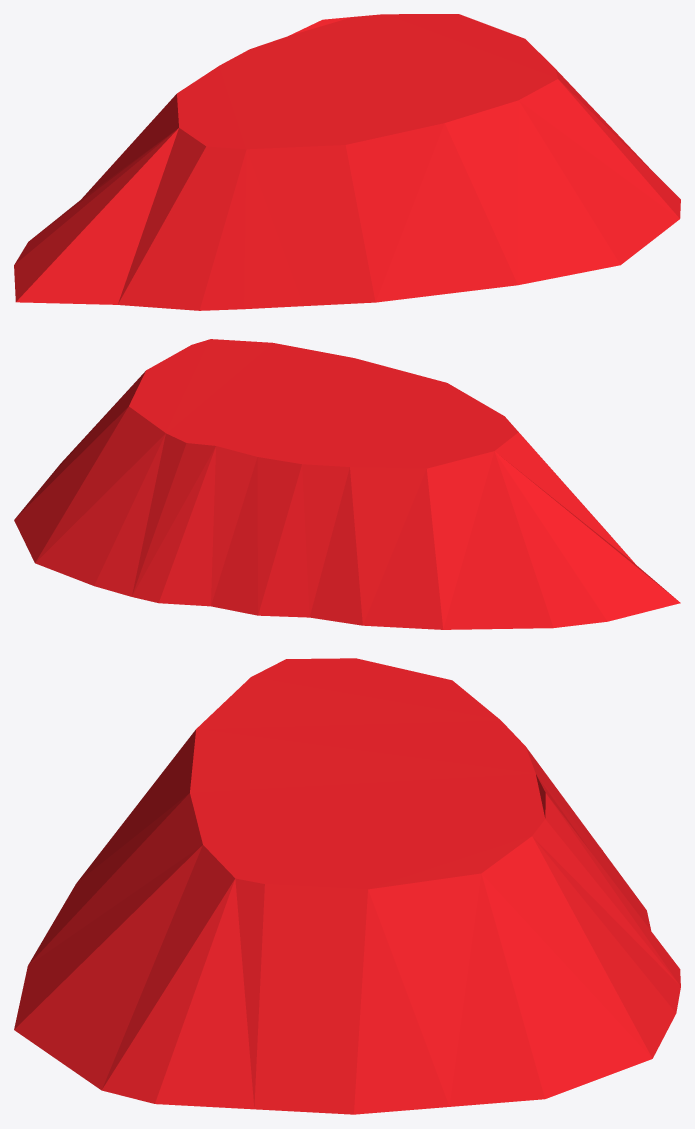
3 renders of one model, top to bottom at view 1: azimuth 30°, elevation 25°; view 2: azimuth 150°, elevation 25°; view 3: azimuth 270°, elevation 25°, orthographic. The views are drawn at different scales.
Parts seen in each view (by area): view 1: 对象024; view 2: 对象024; view 3: 对象024.
Boxes of the visible parts, box(x1,y1,x2,y2) form: 对象024: box(14, 14, 680, 310); 对象024: box(14, 339, 680, 629); 对象024: box(14, 658, 680, 1114).
Bounding box in the file's own units: 10.24 × 1.99 × 7.06.
Materials: 1 (1 with a texture image).
